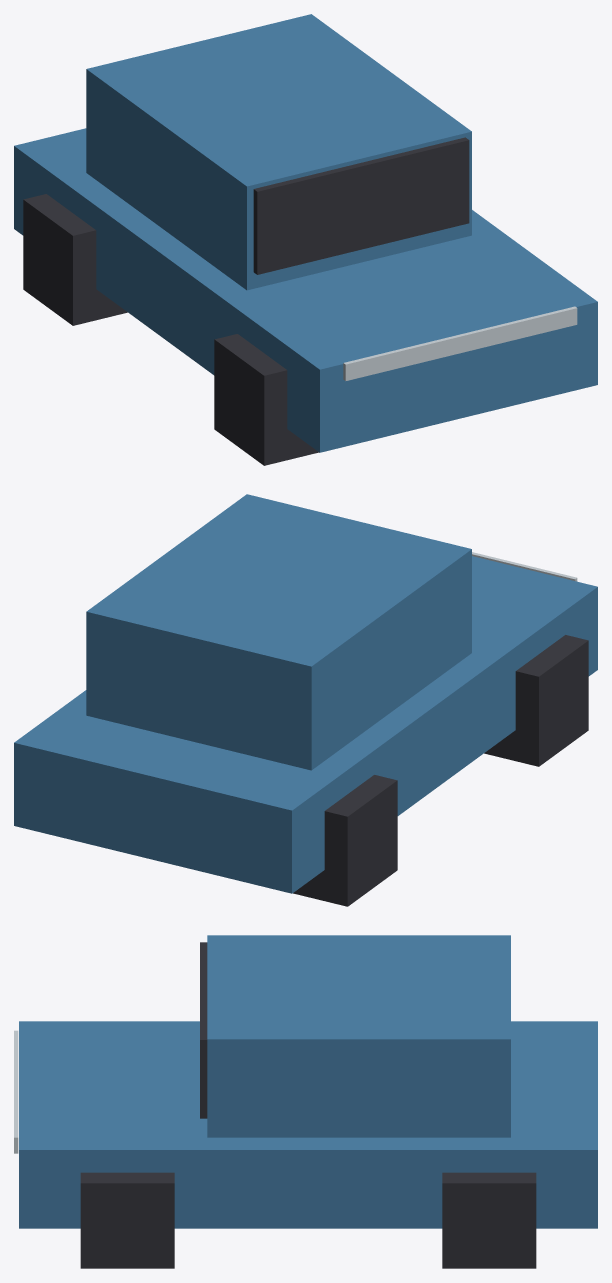
Rendered from automotive.glb.
The picture shows the model from 3 angles, top to bottom: view 1: azimuth 30°, elevation 25°; view 2: azimuth 150°, elevation 25°; view 3: azimuth 270°, elevation 25°; orthographic projection. The views are drawn at different scales.
Visible parts, largest first — view 1: chassis, cabin, windscreen, wheel (×2), lights; view 2: cabin, chassis, wheel (×2); view 3: chassis, cabin, wheel (×2), windscreen, lights.
Part boxes in pixels (bbox=[...]): chassis: bbox=[14, 128, 597, 452]; cabin: bbox=[86, 14, 471, 290]; windscreen: bbox=[253, 137, 469, 274]; wheel (×2): bbox=[23, 194, 318, 465]; lights: bbox=[343, 306, 577, 380]; cabin: bbox=[86, 494, 471, 770]; chassis: bbox=[14, 556, 597, 893]; wheel (×2): bbox=[293, 635, 588, 906]; chassis: bbox=[19, 1021, 597, 1228]; cabin: bbox=[207, 935, 510, 1137]; wheel (×2): bbox=[80, 1172, 536, 1268]; windscreen: bbox=[200, 942, 207, 1118]; lights: bbox=[14, 1030, 18, 1153].
Size of the model in its own units: 2.45 by 1.57 by 4.04.
